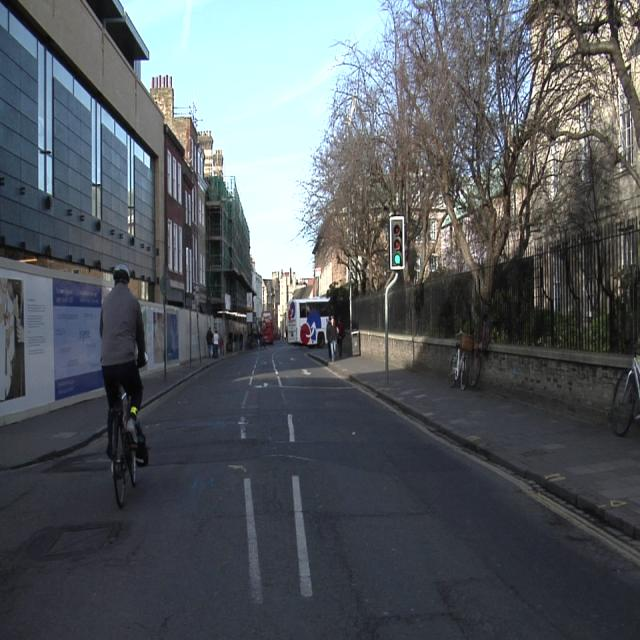Bicyclist: (105, 263, 151, 499)
Building: (0, 0, 252, 419), (260, 270, 310, 338)
Road: (0, 343, 640, 638)
Tree: (300, 0, 640, 292)
Truck_Bus: (282, 298, 328, 348)
